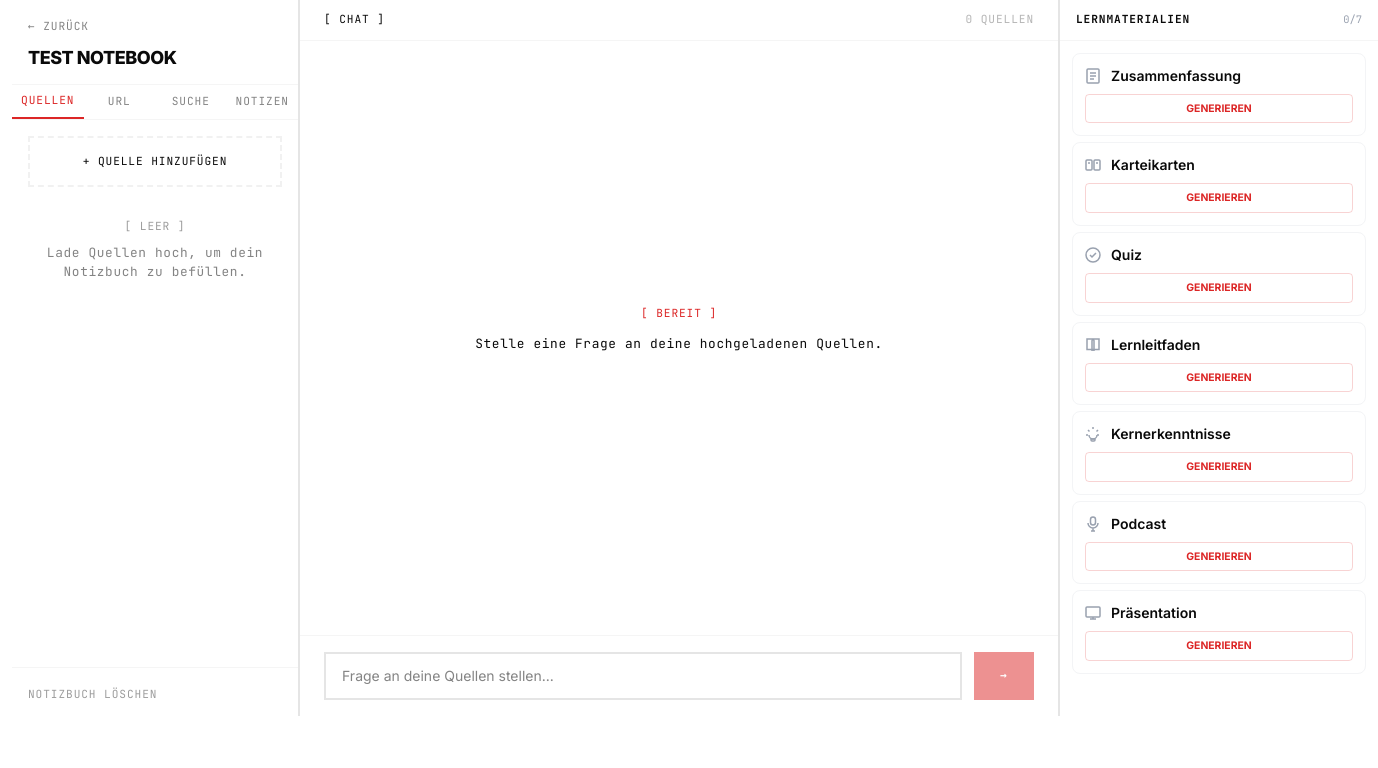
NotebookPage - tabs › renders search input when SUCHE tab clicked
Click the button "SUCHE": [191, 102] box top-left (155, 85), bottom-right (226, 119)
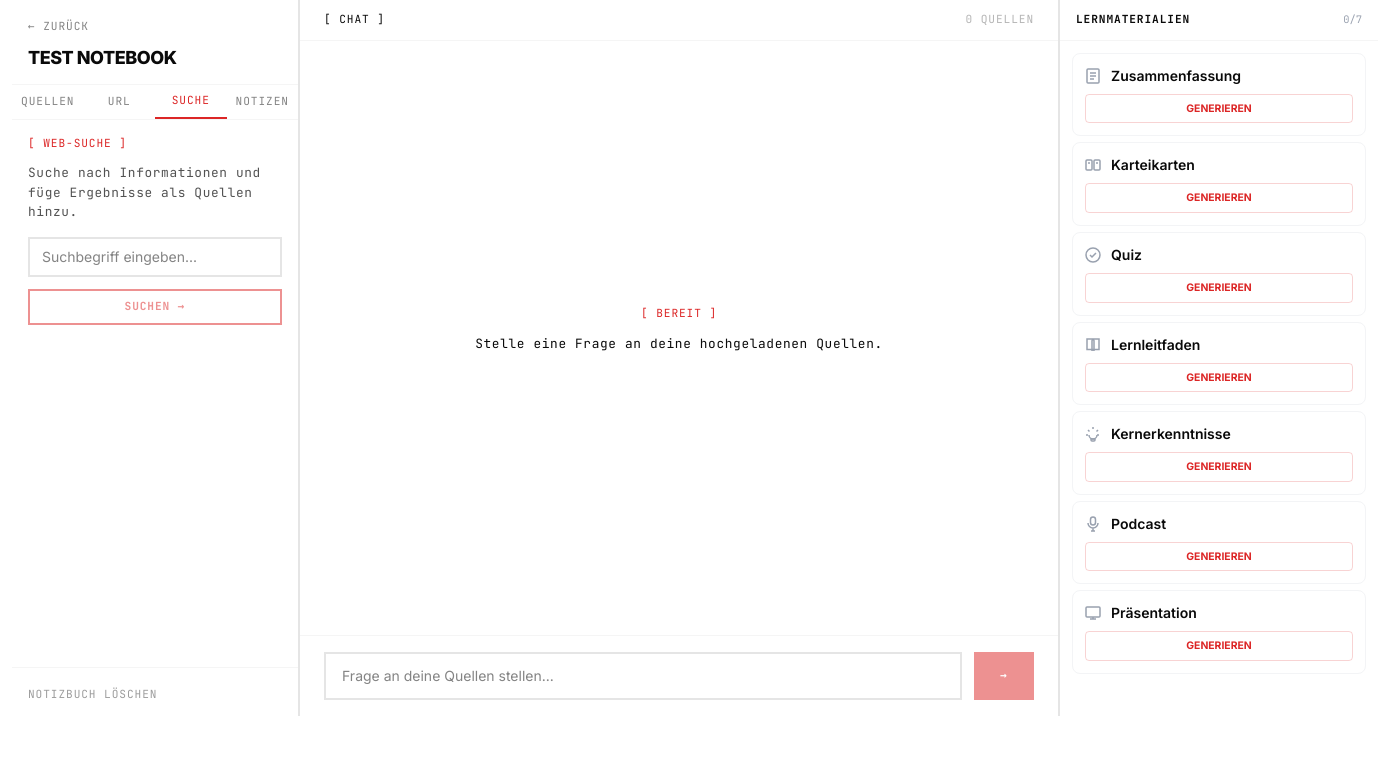
Expected: the field with placeholder "Suchbegriff eingeben..." is shown, top-left (28, 237), bottom-right (282, 277)
